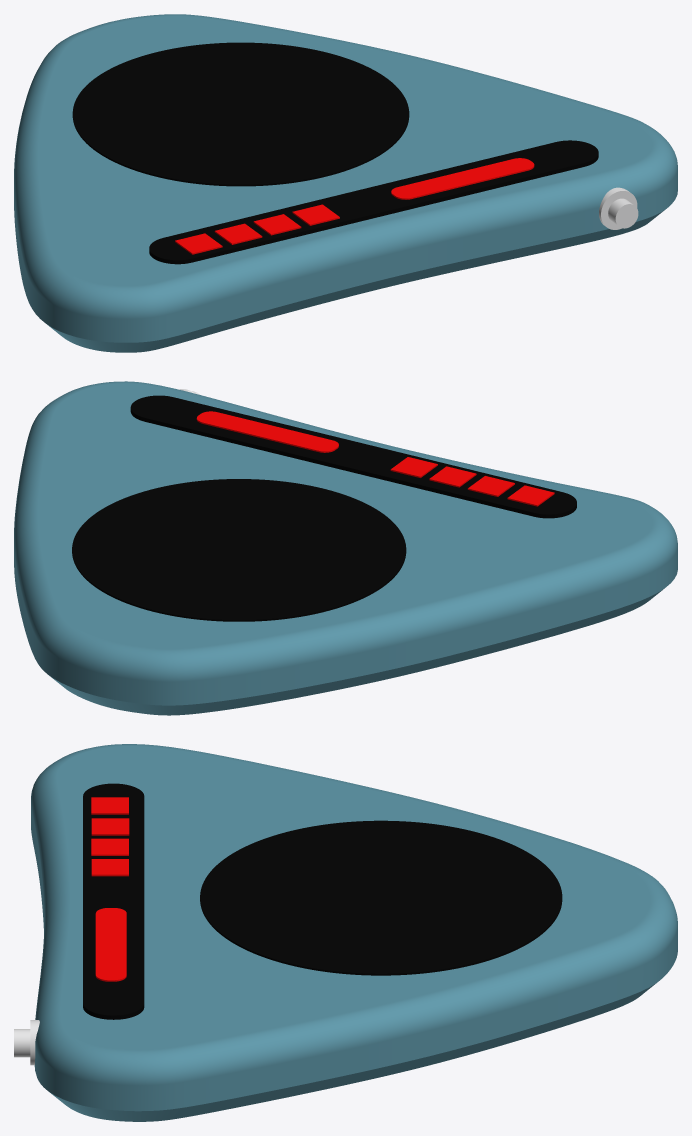
Rendered from stove-concept-1.glb.
3 renders of one model, top to bottom at view 1: azimuth 30°, elevation 25°; view 2: azimuth 150°, elevation 25°; view 3: azimuth 270°, elevation 25°, orthographic. The views are drawn at different scales.
Parts seen in each view (by area): view 1: part-01, part-02, part-09, part-07, part-08, part-05, part-06, part-03, part-04; view 2: part-01, part-02, part-09, part-07, part-04, part-05, part-06, part-03; view 3: part-01, part-02, part-09, part-07, part-08, part-03, part-04, part-05, part-06.
Part boxes in pixels (box(x1,y1,x2,y2)): part-01: box(14, 14, 677, 352); part-02: box(72, 42, 409, 186); part-09: box(149, 140, 598, 264); part-07: box(391, 158, 534, 199); part-08: box(599, 187, 638, 229); part-05: box(253, 214, 301, 235); part-06: box(292, 204, 339, 225); part-03: box(214, 223, 262, 244); part-04: box(175, 233, 222, 254); part-01: box(14, 381, 677, 715); part-02: box(72, 479, 406, 621); part-09: box(130, 395, 576, 518); part-07: box(196, 411, 338, 452); part-04: box(507, 485, 554, 506); part-05: box(429, 466, 476, 487); part-06: box(390, 457, 437, 477); part-03: box(467, 476, 514, 496); part-01: box(31, 744, 677, 1121); part-02: box(200, 820, 562, 975); part-09: box(83, 783, 144, 1019); part-07: box(95, 908, 126, 981); part-08: box(14, 1020, 39, 1065); part-03: box(91, 818, 129, 835); part-04: box(91, 797, 128, 814); part-05: box(91, 838, 128, 855); part-06: box(91, 859, 128, 876).
Size of the model in its own units: 174 by 18.83 by 150.
